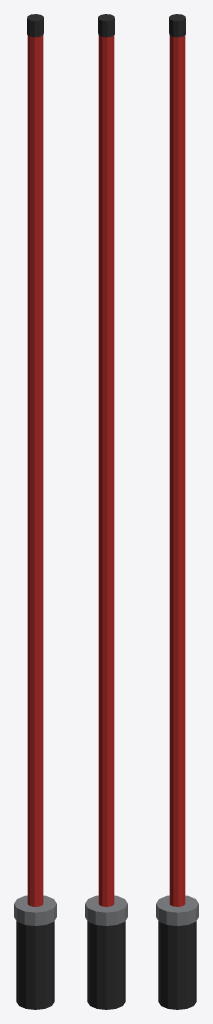
The model's file is pole-red.glb.
3 views of the same model, side by side, from view 1: azimuth 30°, elevation 25°; view 2: azimuth 150°, elevation 25°; view 3: azimuth 330°, elevation 25° (orthographic).
Visible parts, largest first — view 1: pole-red; view 2: pole-red; view 3: pole-red.
Boxes of the visible parts, <box> form: pole-red: <box>14,14,56,1009</box>; pole-red: <box>85,14,127,1009</box>; pole-red: <box>156,14,198,1009</box>.
Size of the model in its own units: 0.072 by 1.83 by 0.072.
